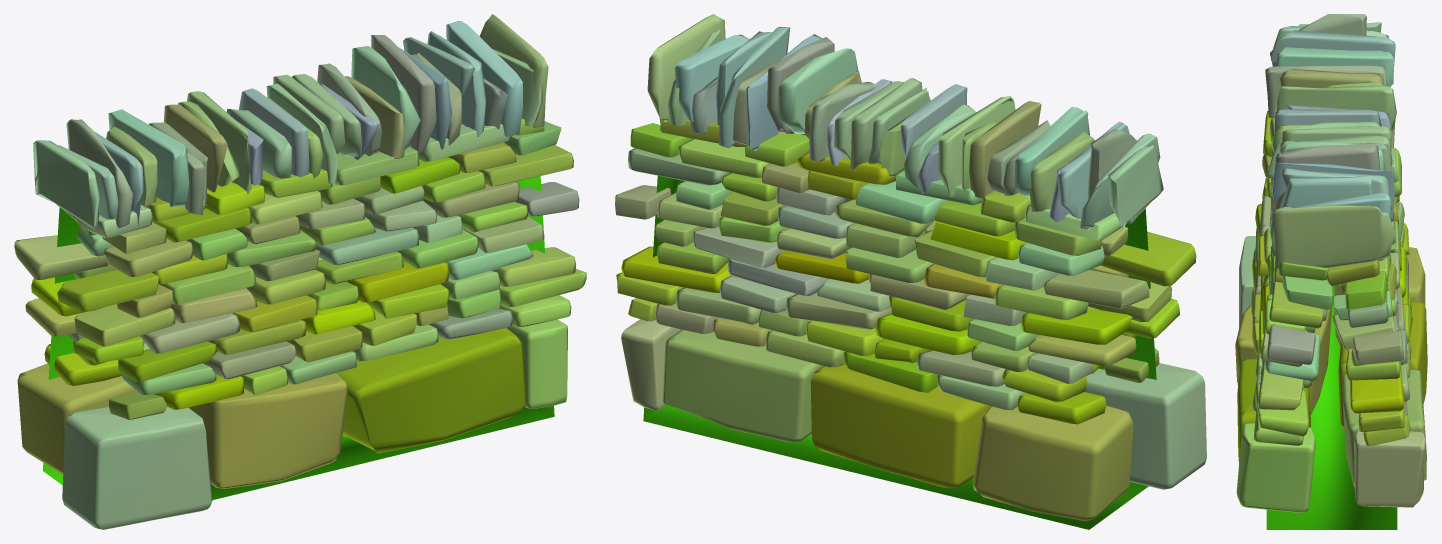
File: SM_Prop_wall_stone_7.glb
3 renders of one model, left to right at view 1: azimuth 30°, elevation 25°; view 2: azimuth 150°, elevation 25°; view 3: azimuth 270°, elevation 25°, orthographic. The views are drawn at different scales.
Visible parts, largest first — view 1: SM_Prop_wall_stone_7; view 2: SM_Prop_wall_stone_7; view 3: SM_Prop_wall_stone_7.
Boxes of the visible parts, left/top/right/bottom form: SM_Prop_wall_stone_7: left=14, top=14, right=586, bottom=529; SM_Prop_wall_stone_7: left=615, top=14, right=1206, bottom=529; SM_Prop_wall_stone_7: left=1235, top=14, right=1427, bottom=529.
Bounding box in the file's own units: 2.25 × 1.57 × 0.8242.
